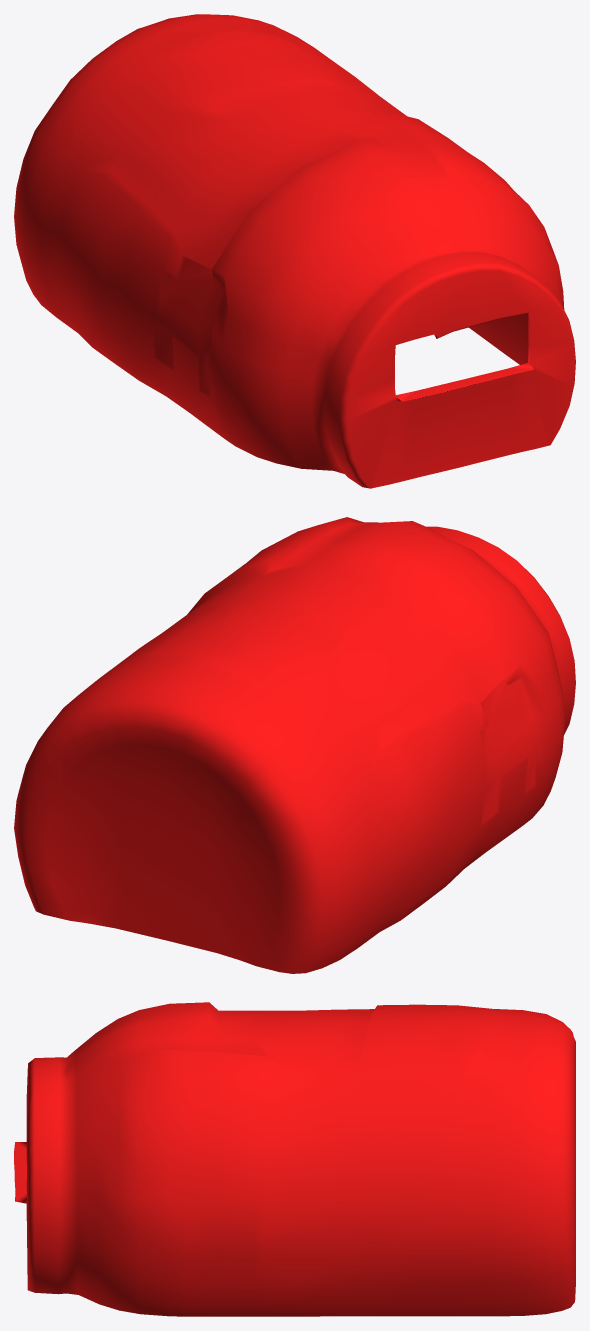
File: picklesPot_LOW.FBX
3 views of the same model, one above another, from view 1: azimuth 30°, elevation 25°; view 2: azimuth 150°, elevation 25°; view 3: azimuth 270°, elevation 25° (orthographic). The views are drawn at different scales.
Parts seen in each view (by area): view 1: Object001; view 2: Object001; view 3: Object001.
Boxes of the visible parts, x1,y1,x2,y2 form: Object001: (14, 14, 575, 488); Object001: (14, 517, 575, 973); Object001: (14, 1002, 575, 1316).
Size of the model in its own units: 998 by 713 by 1564.
